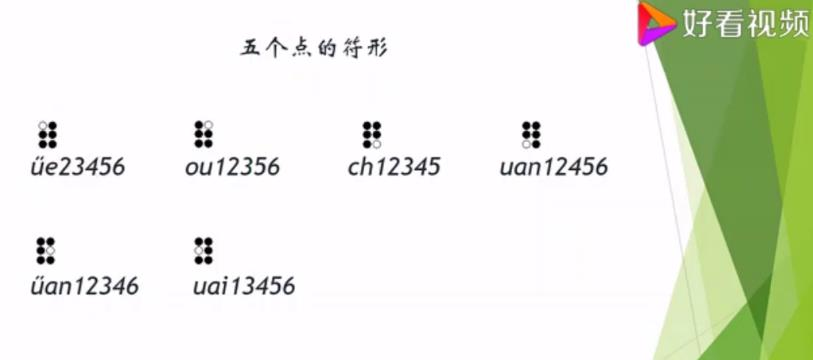Braille: (37, 120, 59, 150), (521, 120, 542, 150), (36, 236, 57, 265), (194, 237, 214, 266), (194, 120, 214, 149), (362, 121, 382, 150)
